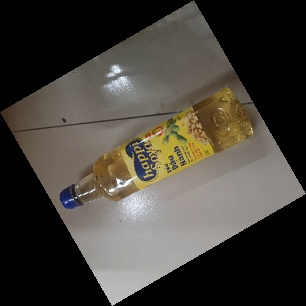Happy Soya: (59, 85, 255, 210)
